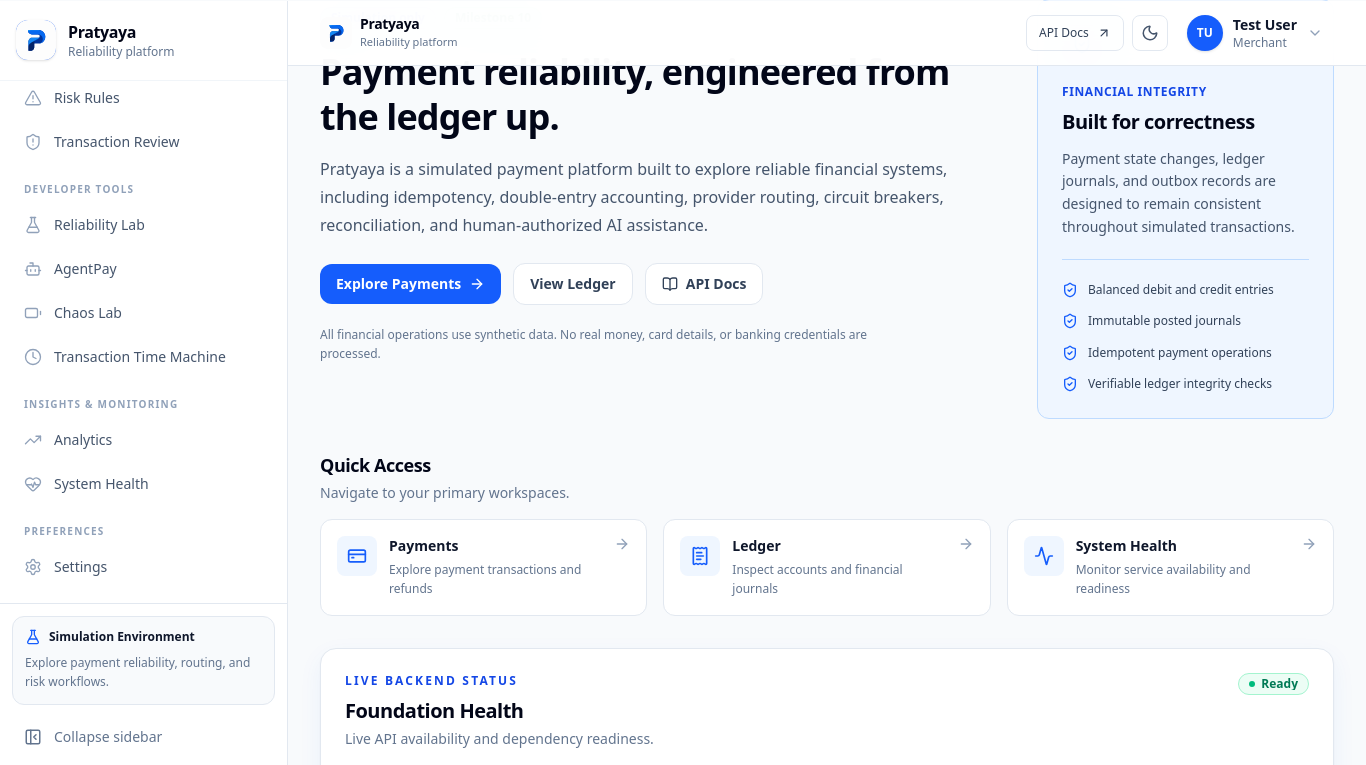
Scenario: Pratyaya web foundation › navigates to the system health page and shows real dependency rows
(page scrolled)
Check: the heading "Payment reliability, engineered from the ledger up." is shown, box [320, 48, 1013, 138]
Click the link "System Health". click: {"x": 86, "y": 482}
box: [24, 473, 149, 492]
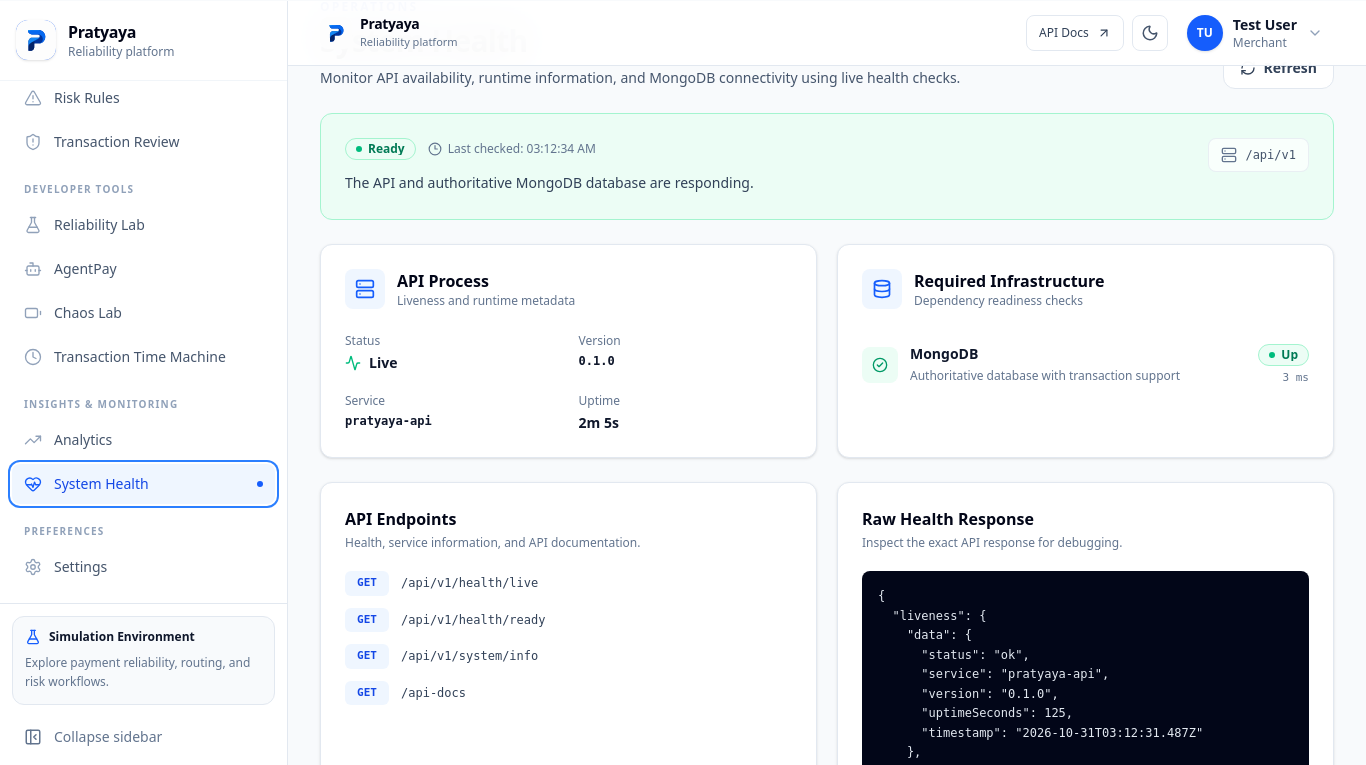
Check: the heading "Required Infrastructure" is shown, box [914, 269, 1104, 293]
Check: the text "MongoDB" is shown, box [910, 344, 978, 363]
Check: the text "pratyaya-api" is shown, box [345, 414, 432, 428]
